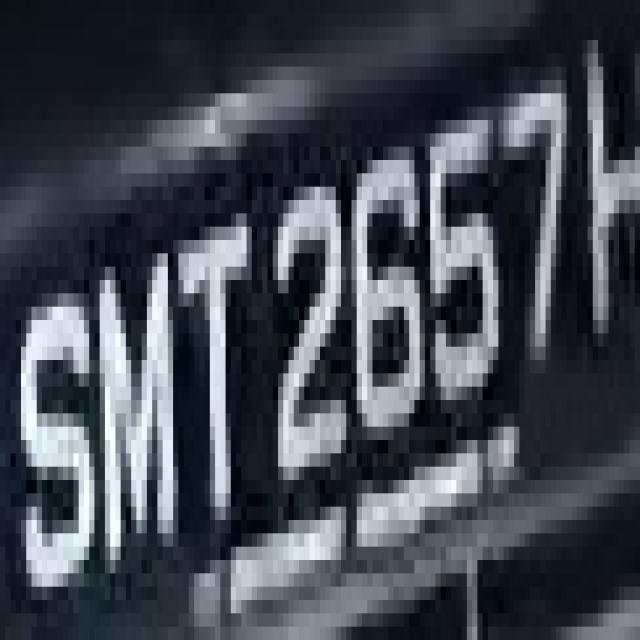2: (257, 174, 357, 494)
5: (409, 94, 509, 414)
6: (351, 107, 425, 440)
7: (482, 66, 572, 386)
H: (582, 0, 640, 360)
M: (78, 253, 184, 587)
S: (0, 240, 89, 627)
T: (163, 173, 257, 520)
